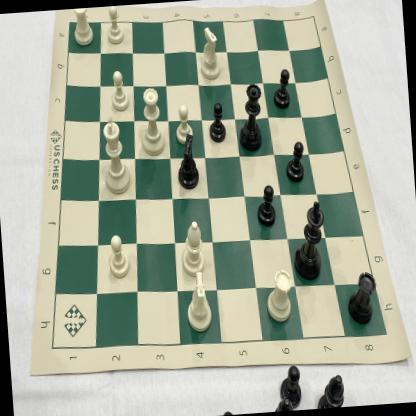bishop: (179, 219, 206, 278)
king: (290, 200, 331, 284), (99, 112, 133, 198)
knight: (183, 270, 215, 335), (172, 134, 203, 192), (196, 24, 223, 82)
pawn: (104, 232, 132, 280), (282, 138, 308, 186), (270, 67, 294, 114), (107, 68, 132, 113), (255, 182, 278, 229), (172, 102, 196, 146), (102, 6, 127, 46), (206, 101, 228, 144)
queen: (236, 81, 268, 156), (138, 84, 168, 158)
rook: (344, 268, 380, 328), (263, 266, 294, 326), (73, 8, 94, 50)
